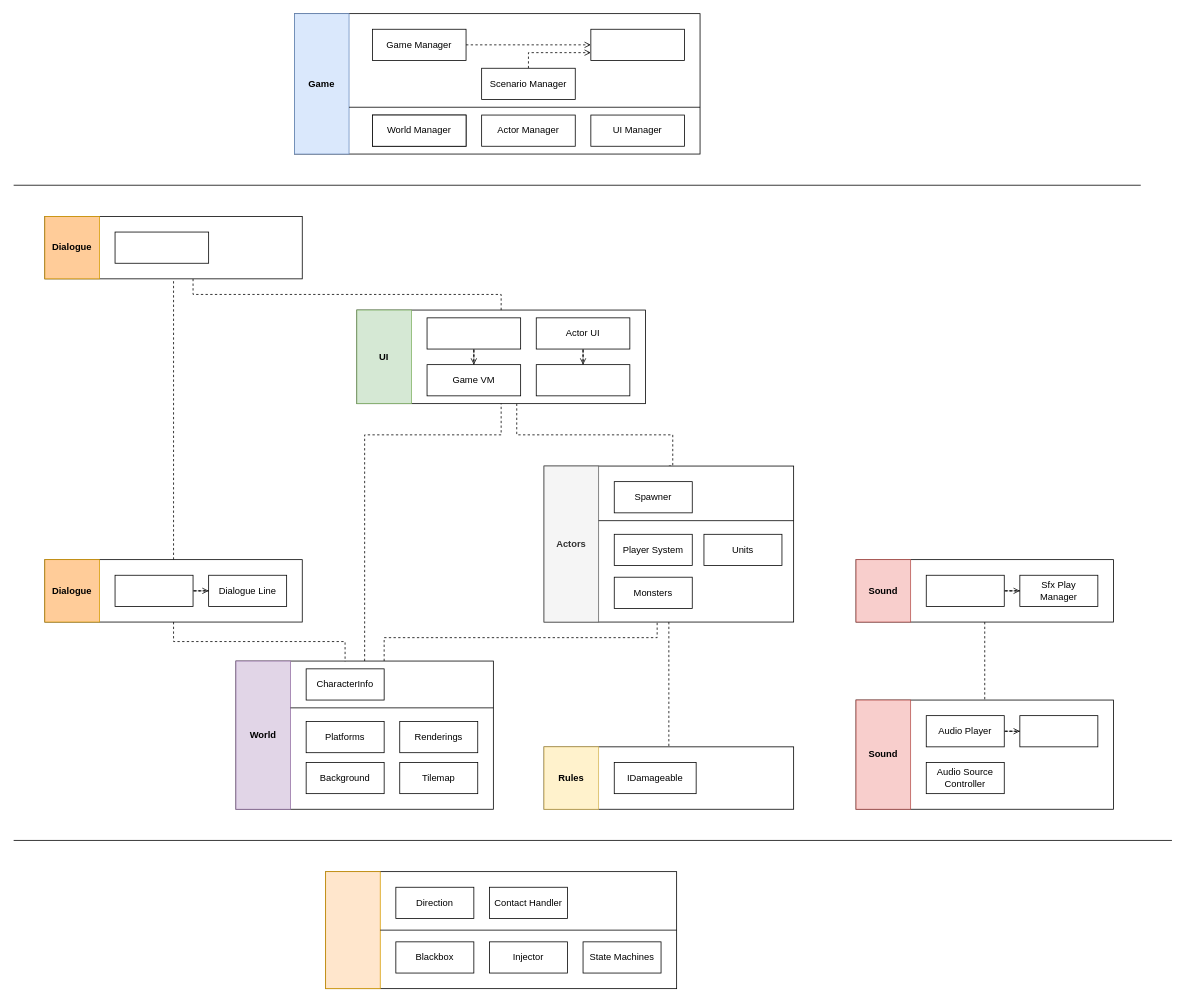
This 1186x1002 diagram has some shape labels left out. Here are the shapes that lost their labels. From the top down, the box of each, then its label:
(590, 28, 684, 60): Stage Manager
(114, 231, 209, 263): Dialogue Manager
(426, 317, 521, 349): Game UI
(535, 364, 630, 396): Actor VM
(114, 574, 193, 606): Dialogue Script
(925, 574, 1004, 606): UI Button Audio Player
(1019, 715, 1098, 747): Audio Play Manager
(325, 871, 380, 989): Infra- structure
